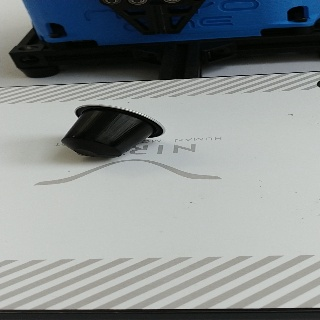capsule_10: (60, 103, 166, 159)
